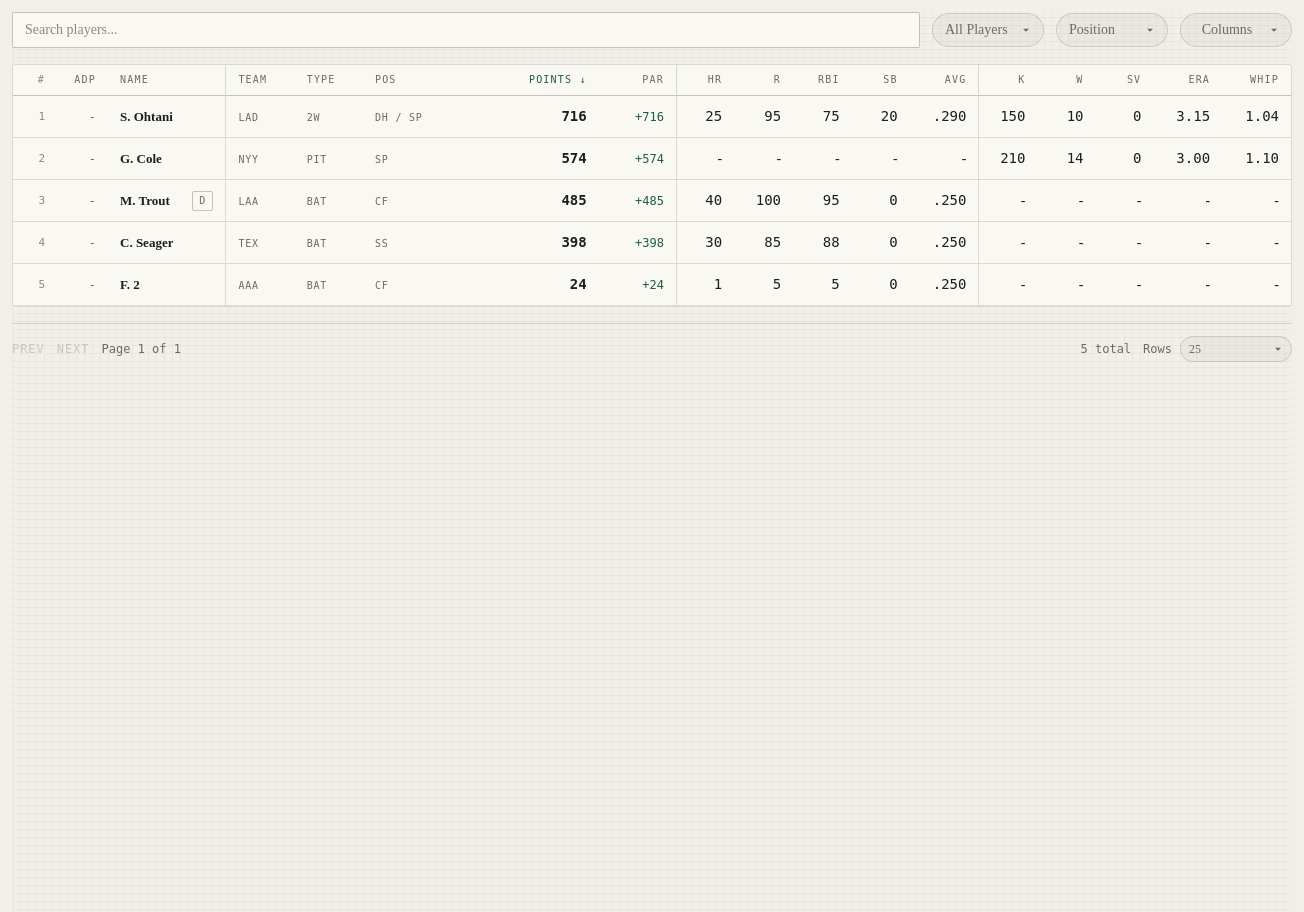
Test: Leaderboard › keeps drafted rows readable in non-draft mode and shows ownership in a badge tooltip
Hover over the text "D".
mouse_move(203, 201)  # box x1=192 y1=191 x2=213 y2=211
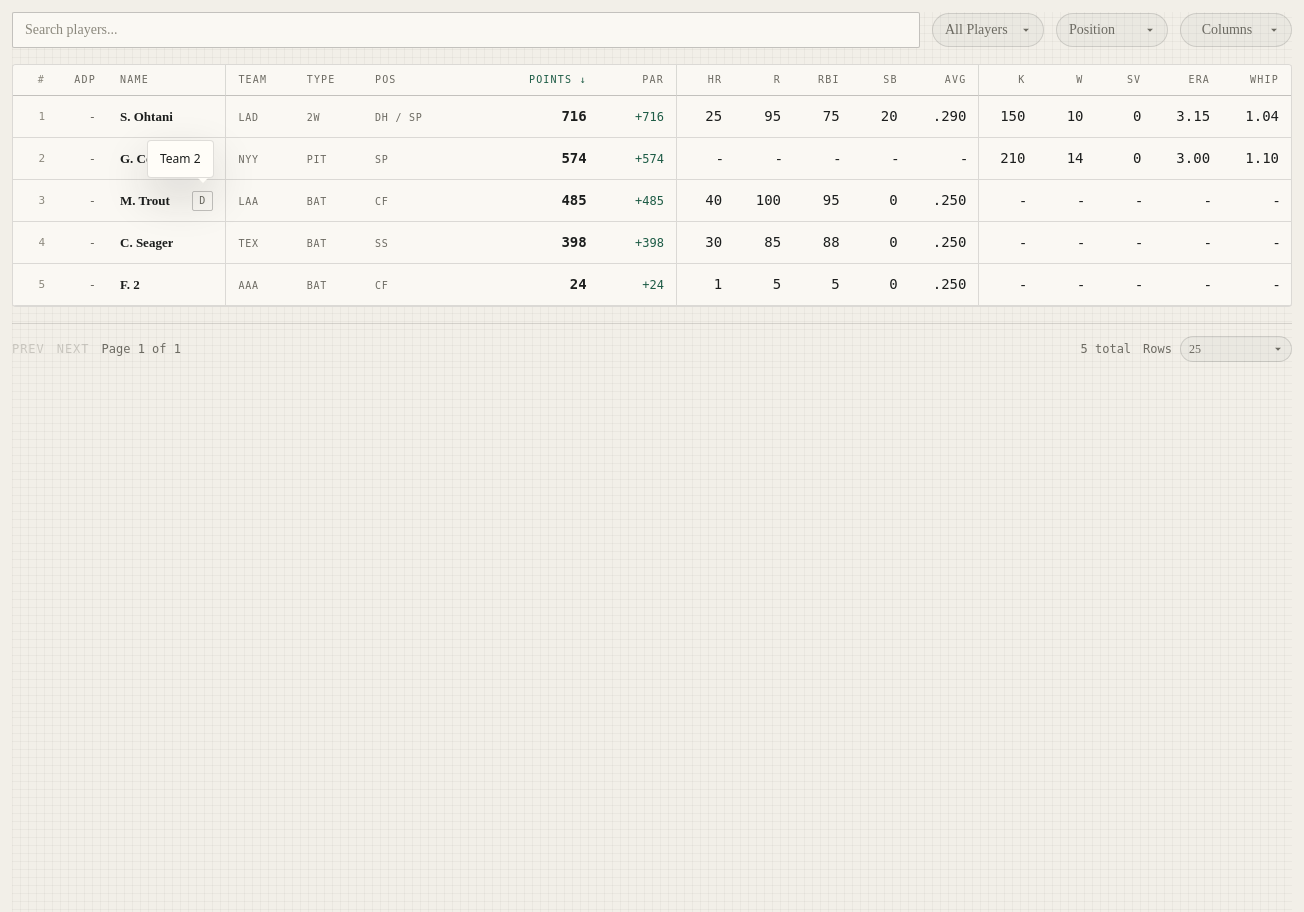
Check: the tooltip reads "Team 2", box x1=160 y1=150 x2=200 y2=167
